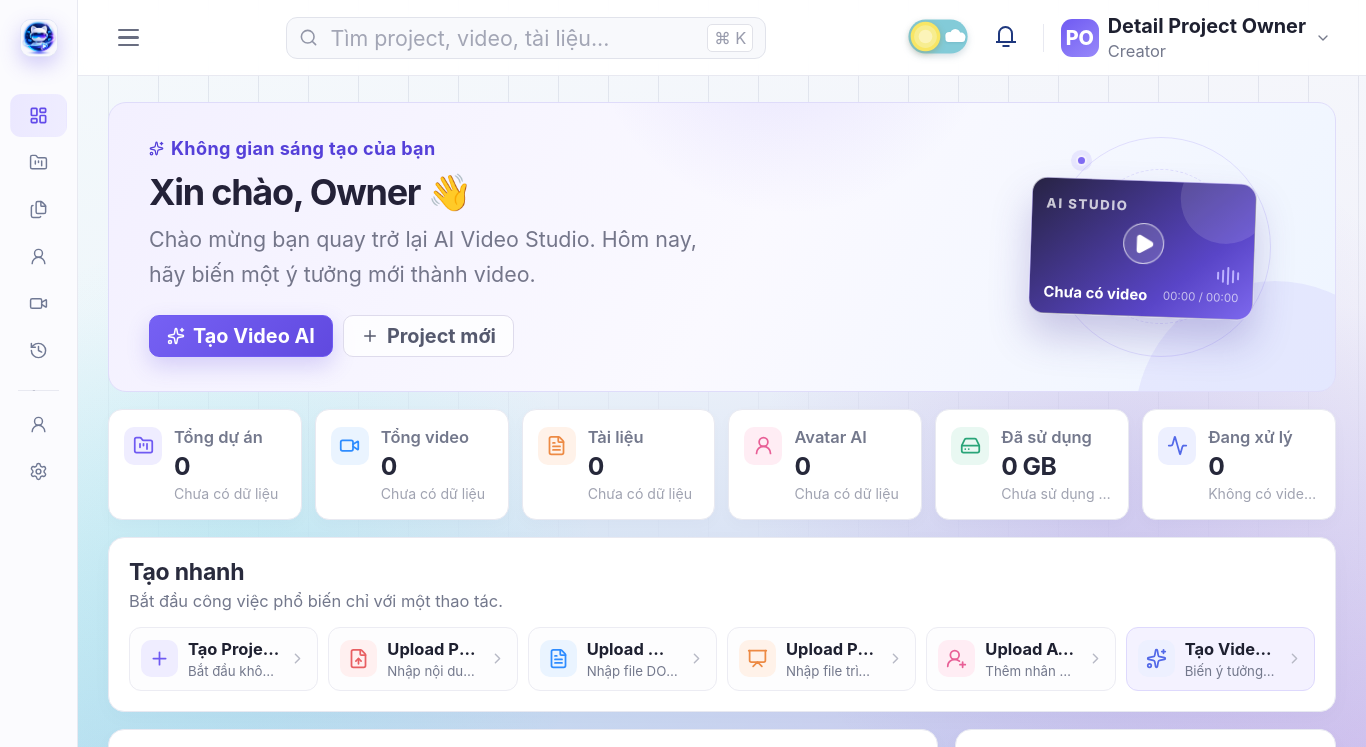
Scenario: opens the selected Supabase project detail page
Expected: the button "PO Detail Project Owner Creator" is shown, [1058,11,1336,64]
Click the button named "dự án" at (38,162), box [10,141,67,184]
(page scrolled)
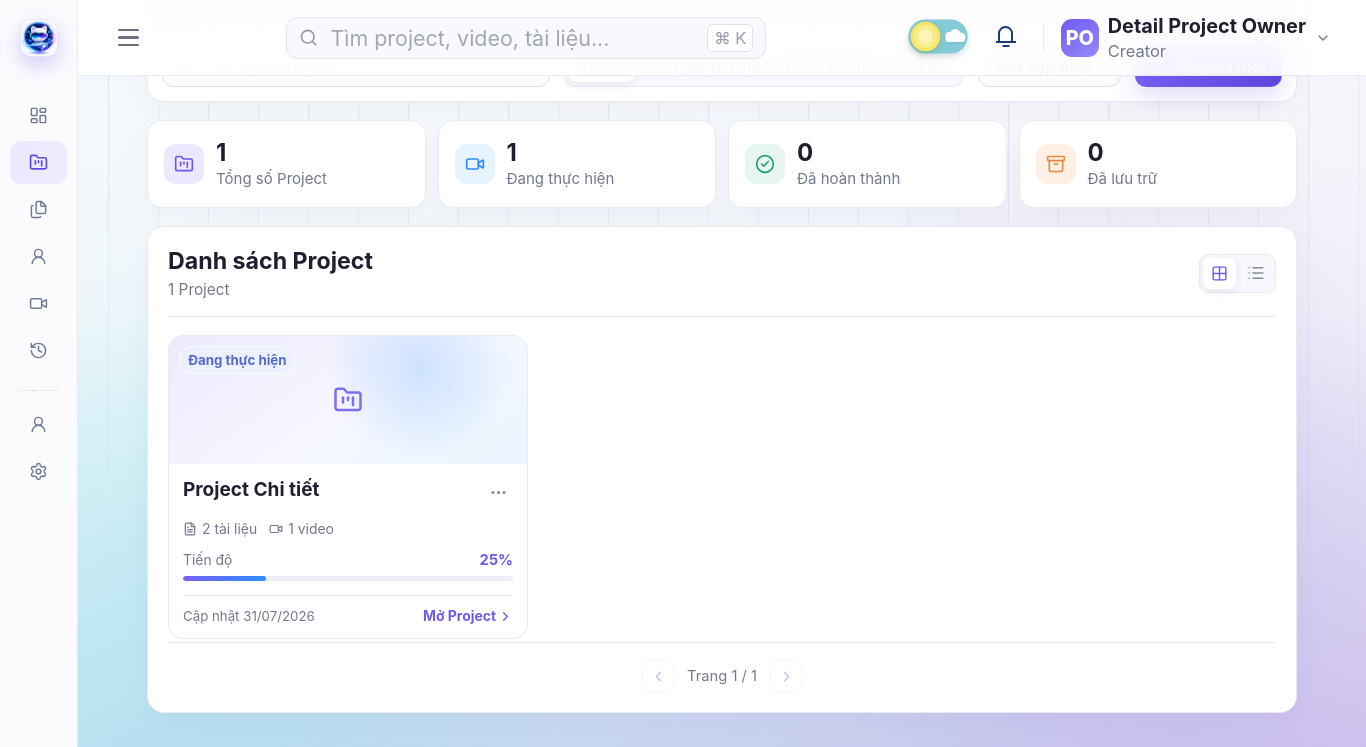
Now the heading "Project Chi tiết" is shown, box [183,478,320,501]
Click the button "Mở Project" at (468,616), box [423,608,513,624]
(page scrolled)
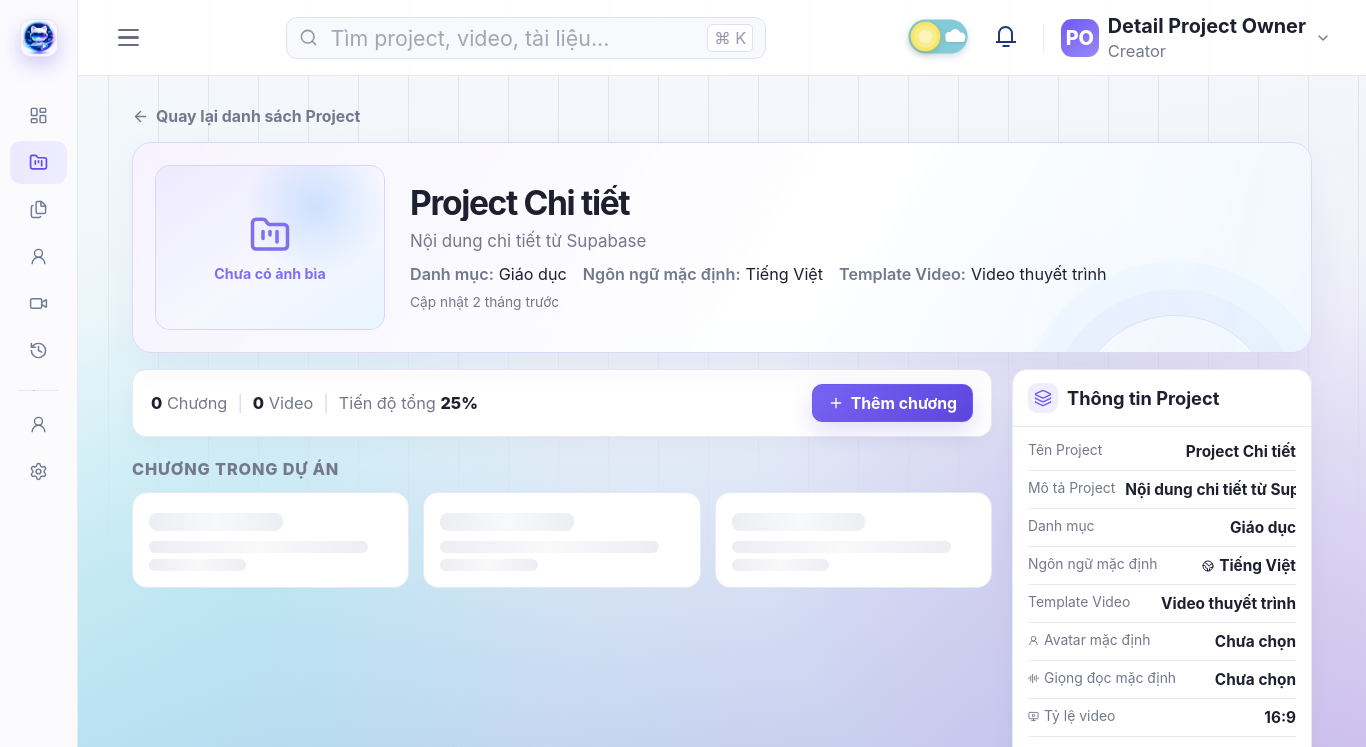
Now the heading "Thông tin Project" is shown, box [1067,387,1219,409]
Now the heading "Project Chi tiết" is shown, box [410,182,629,223]
Now the 1st text "Nội dung chi tiết từ Supabase" is shown, box [410,231,646,251]
Click the button "Quay lại danh sách Project" at (246,116), box [132,101,360,132]
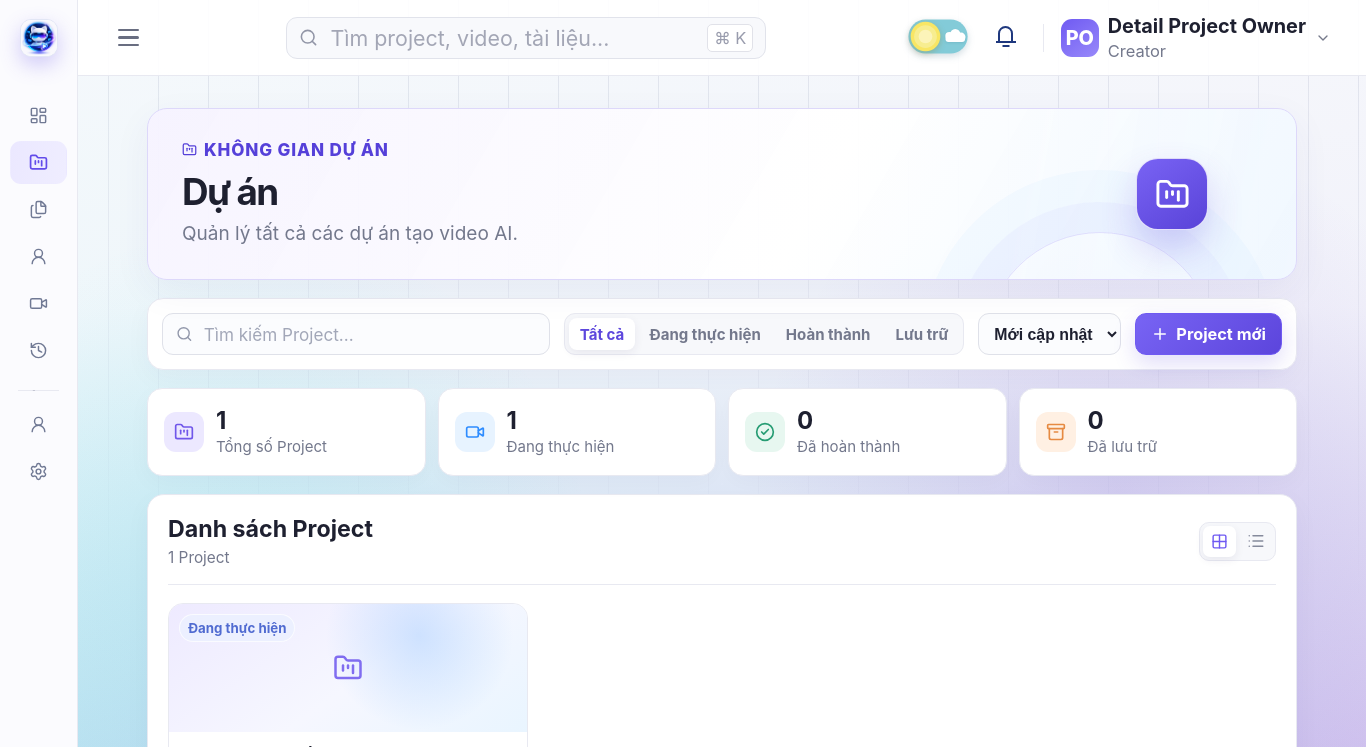
Now the heading "Dự án" is shown, box [182,169,278,214]
